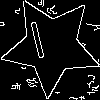I: (26, 21, 51, 68)
